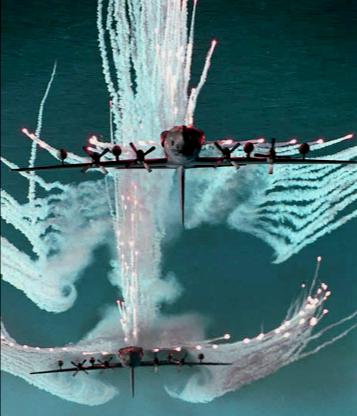Be200: (8, 125, 356, 232), (28, 346, 233, 400)
